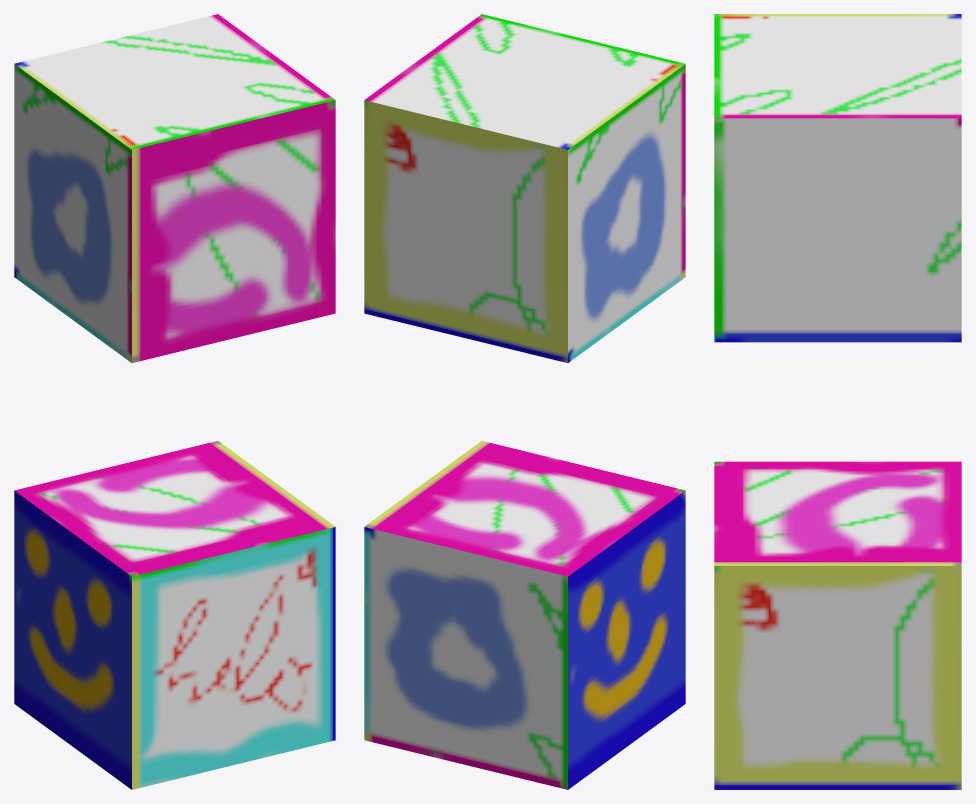
3 renders of one model, left to right at view 1: azimuth 30°, elevation 25°; view 2: azimuth 150°, elevation 25°; view 3: azimuth 270°, elevation 25°, orthographic. The views are drawn at different scales.
Visible parts, largest first — view 1: CubeTop, CubeBase; view 2: CubeTop, CubeBase; view 3: CubeTop, CubeBase.
Boxes of the visible parts, x1=… form: CubeTop: x1=14, y1=14, x2=335, y2=362; CubeBase: x1=14, y1=441, x2=335, y2=789; CubeTop: x1=364, y1=14, x2=685, y2=362; CubeBase: x1=364, y1=441, x2=685, y2=789; CubeTop: x1=714, y1=14, x2=961, y2=342; CubeBase: x1=714, y1=461, x2=961, y2=789.
Size of the model in its own units: 2 by 6 by 2.
